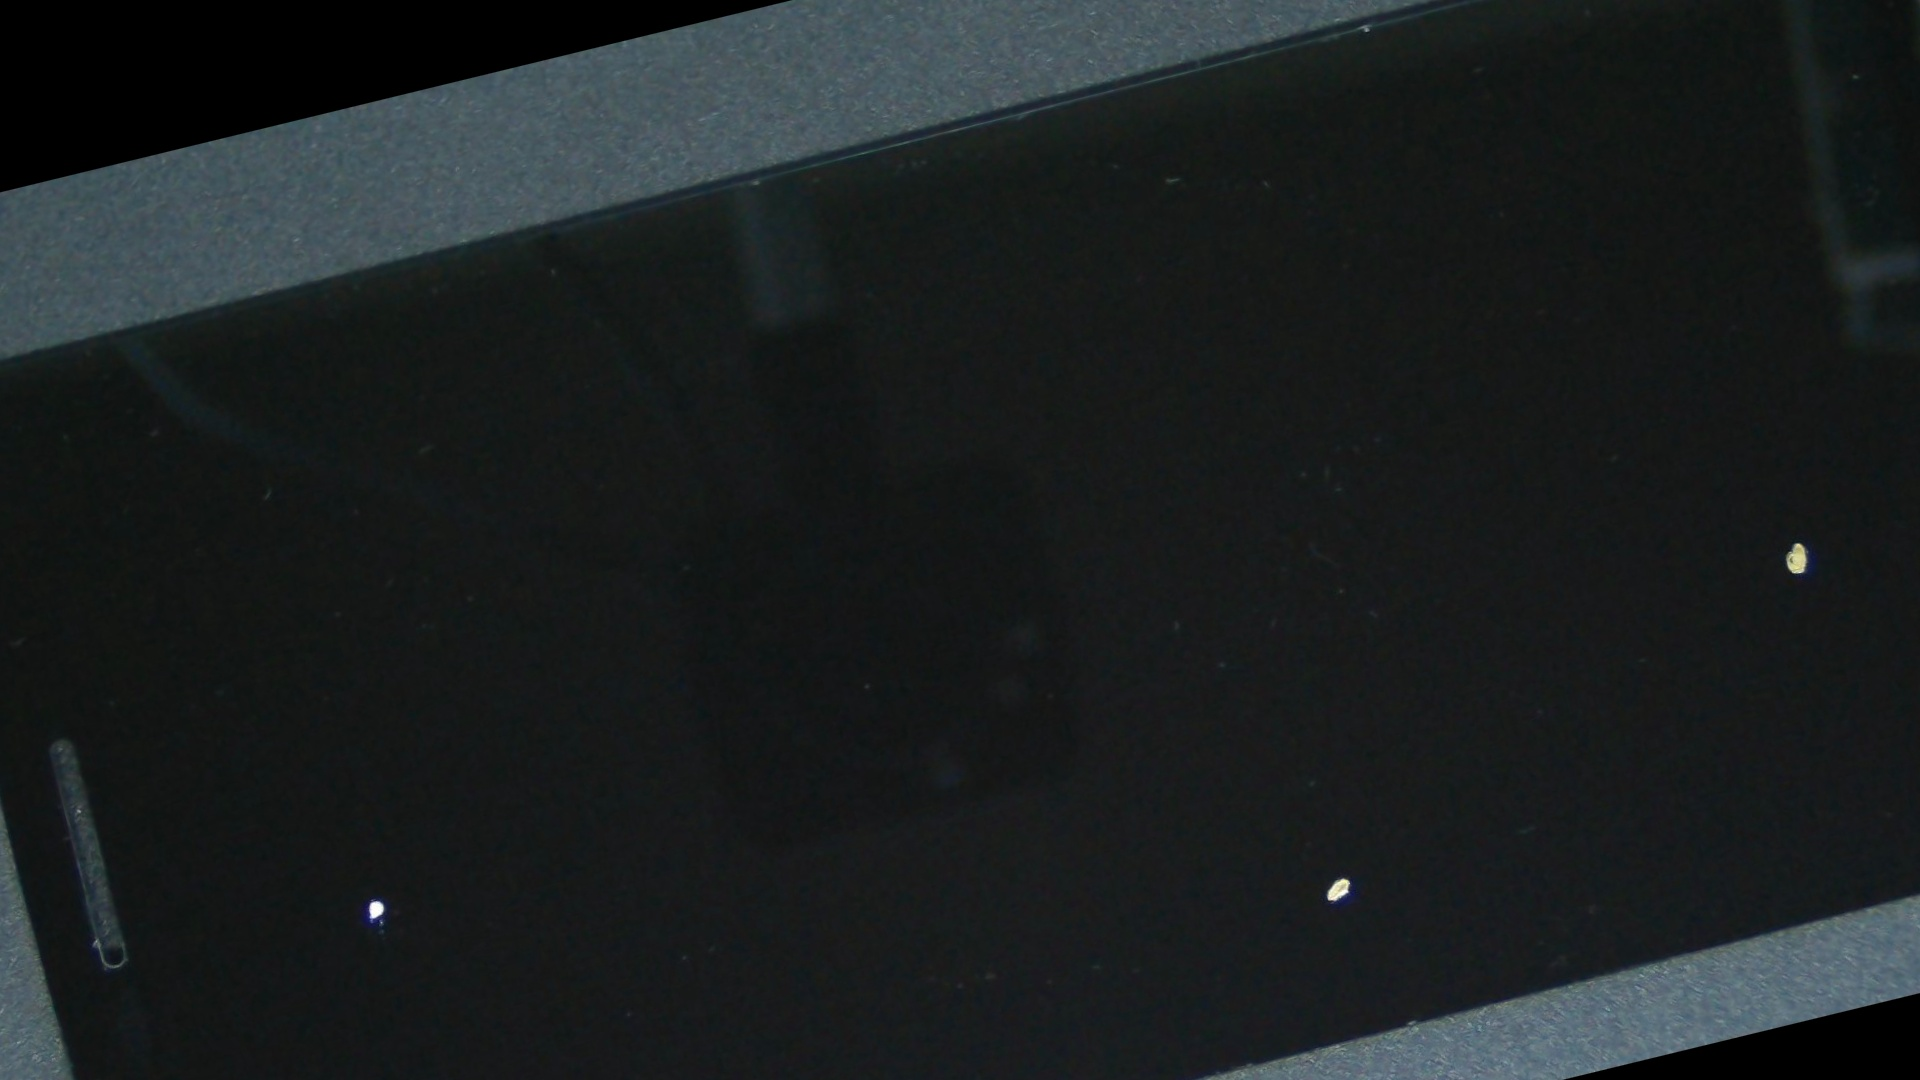oil: (520, 228, 1920, 1080), (744, 92, 1920, 1080), (32, 463, 703, 1080)
